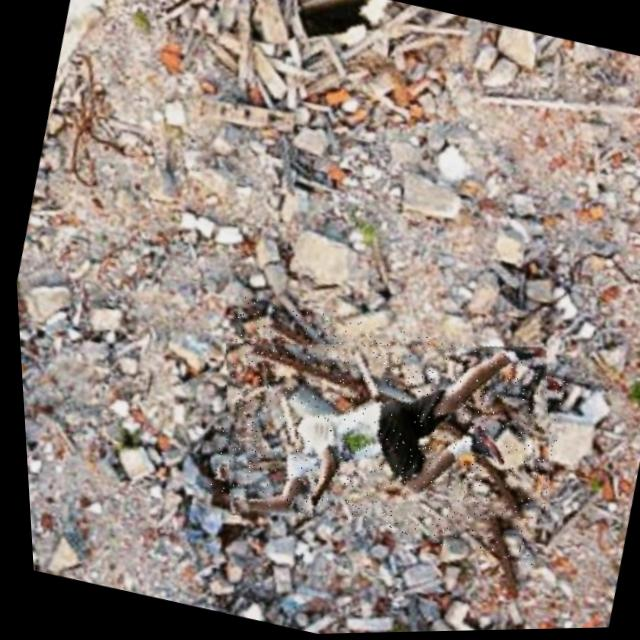Person in Rubble: (189, 289, 575, 573)
